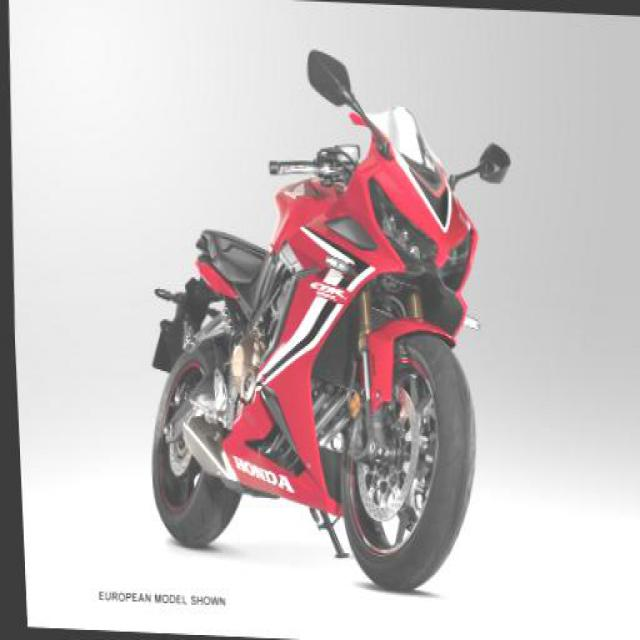CBR650R: (131, 92, 487, 596)
